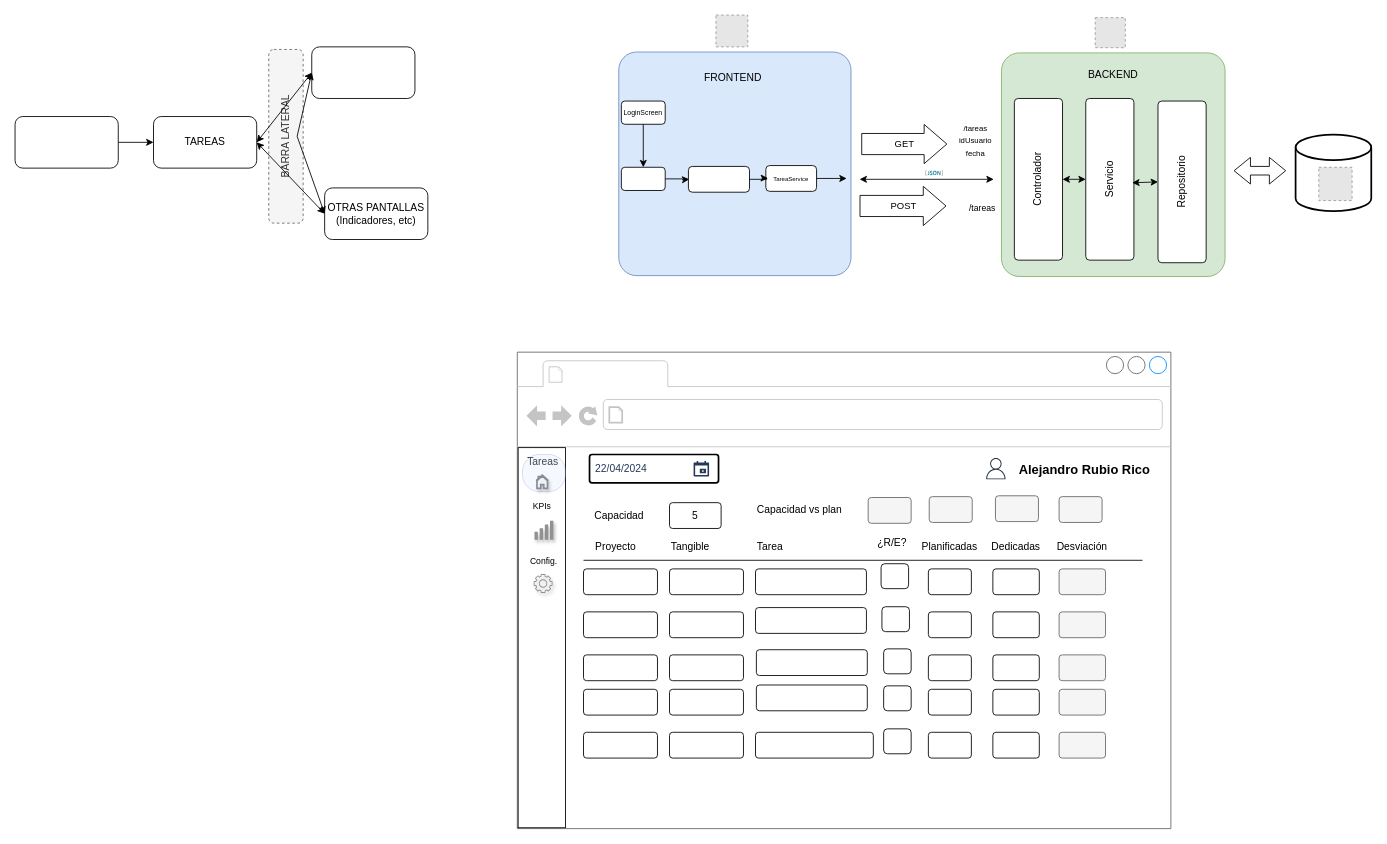
This 1387x844 diagram has some shape labels left out. Grey dashed boxes stand in for pictures. Here are the shapes that lost their labels. From the top down, the centre of each, then its label:
the point at 363,72: CONFIGURACION
the point at 66,142: LOGIN
the point at 642,178: TareaScreen
the point at 718,179: TareaController
the point at 658,373: Seguimiento diario
